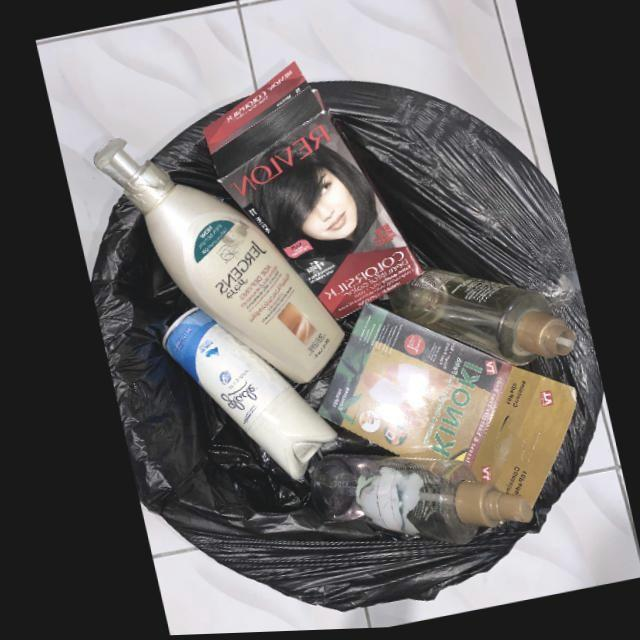aluminum: (157, 309, 333, 485)
cardboard: (202, 64, 419, 324), (312, 306, 573, 512)
plastic_bottle: (87, 137, 337, 385), (305, 456, 527, 548), (384, 273, 572, 370)
